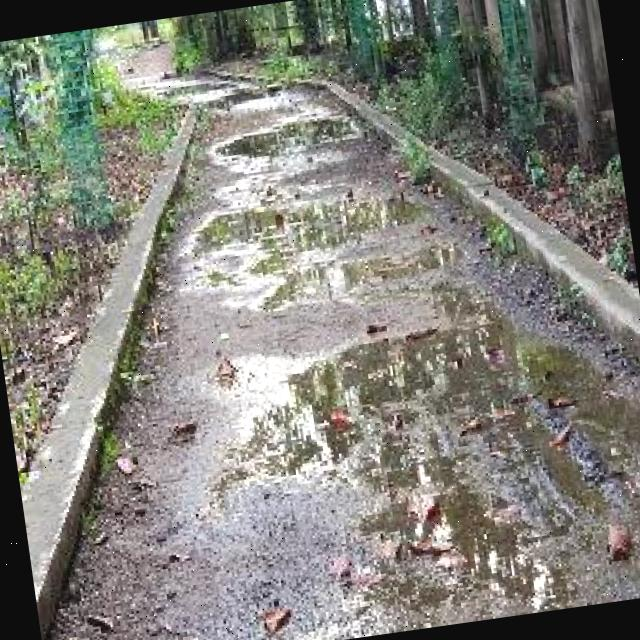waterlogging: (298, 284, 614, 580), (174, 168, 412, 314)
